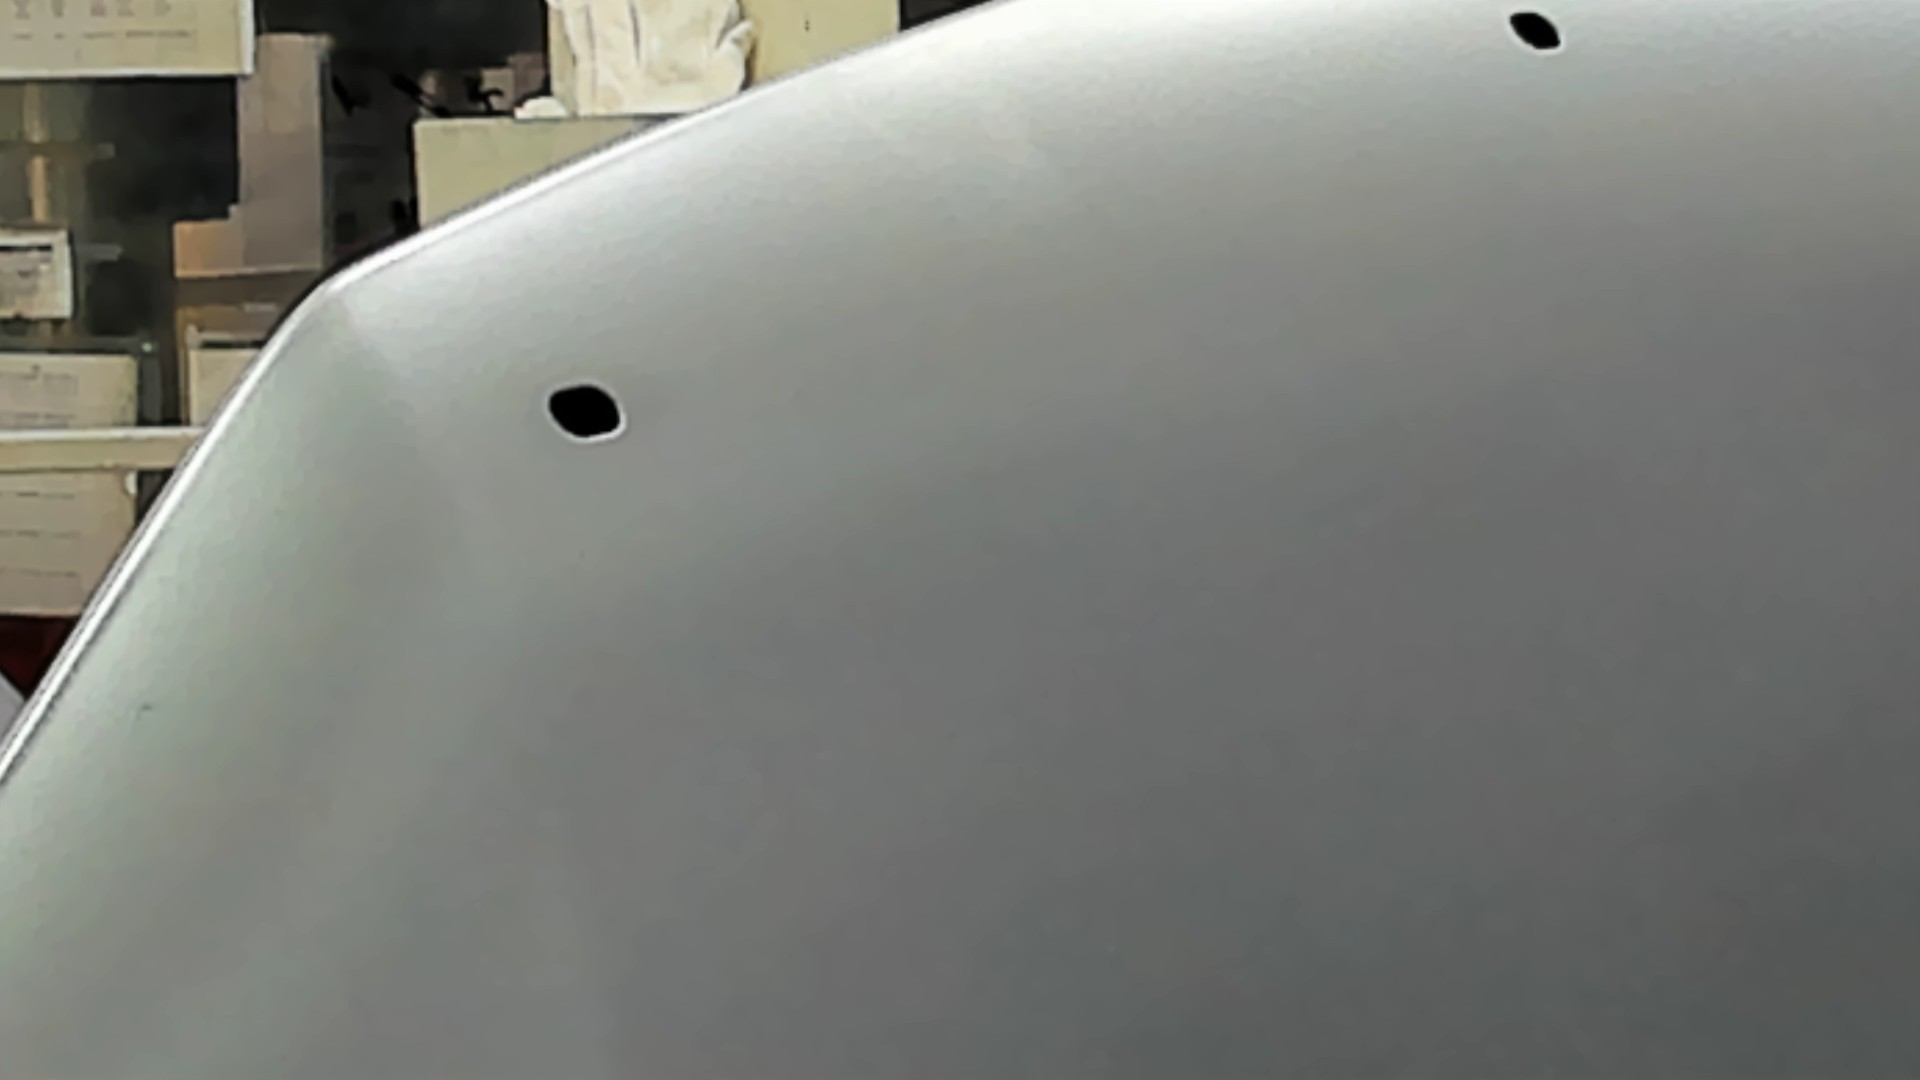amorfo: (537, 378, 633, 444), (1505, 8, 1569, 53)
